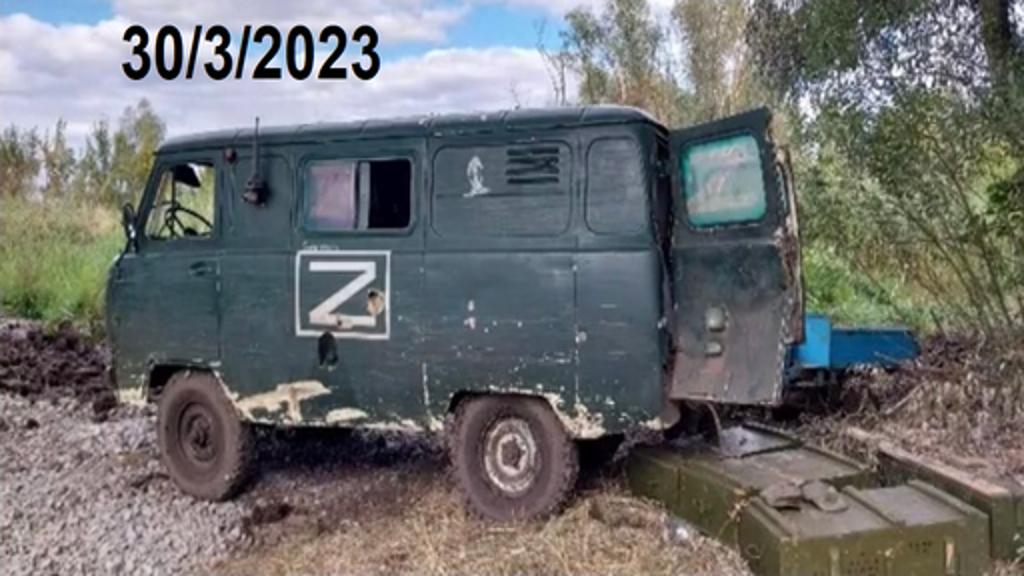CAR: (94, 96, 812, 514)
